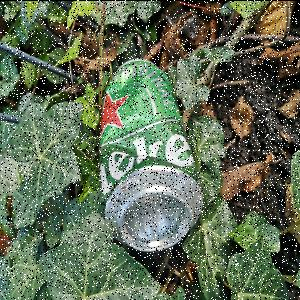Can: (97, 54, 207, 259)
